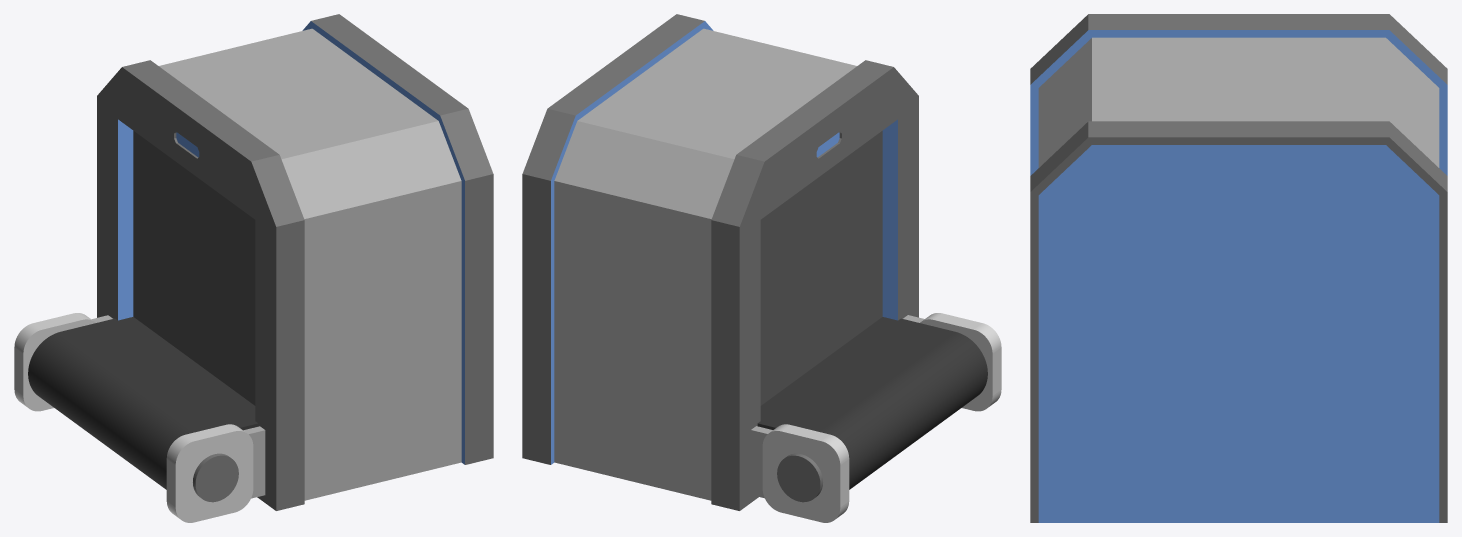
The model's file is ConveyorOut.fbx.
The picture shows the model from 3 angles, left to right: view 1: azimuth 30°, elevation 25°; view 2: azimuth 150°, elevation 25°; view 3: azimuth 270°, elevation 25°; orthographic projection. The views are drawn at different scales.
Visible parts, largest first — view 1: ConveyorOut; view 2: ConveyorOut; view 3: ConveyorOut.
Boxes of the visible parts, <box> form: ConveyorOut: <box>14,14,493,522</box>; ConveyorOut: <box>522,14,1001,522</box>; ConveyorOut: <box>1030,14,1447,522</box>.
Size of the model in its own units: 99.5 by 102 by 100.
